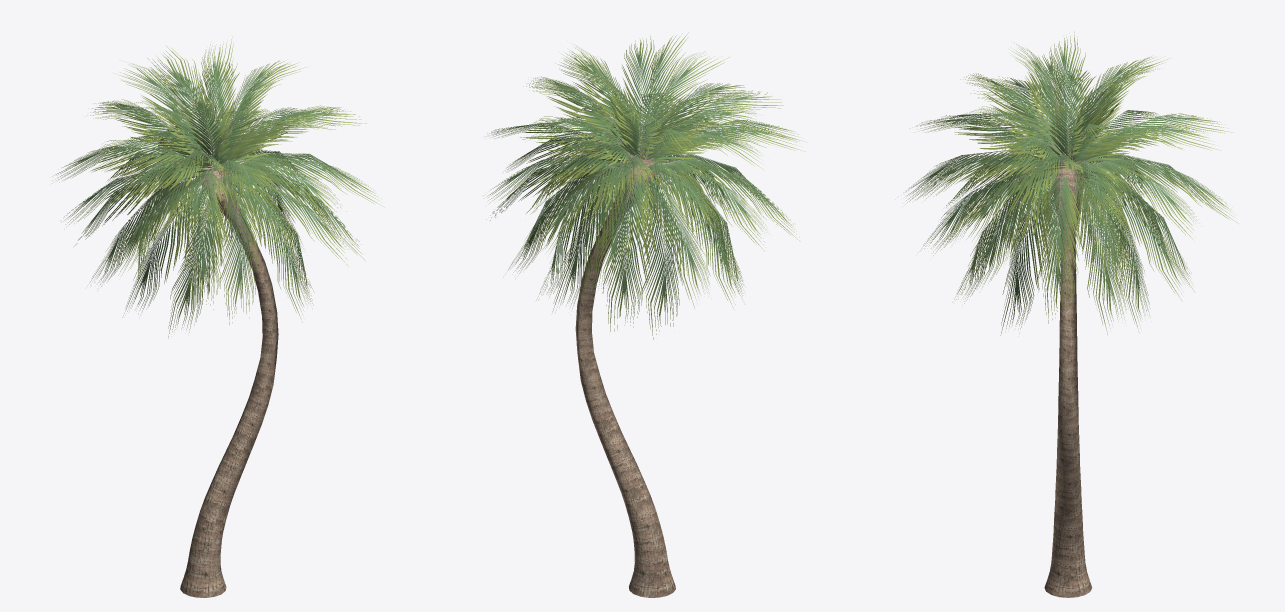
Rendered from tree4.glb.
3 renders of one model, left to right at view 1: azimuth 30°, elevation 25°; view 2: azimuth 150°, elevation 25°; view 3: azimuth 270°, elevation 25°, orthographic. The views are drawn at different scales.
Parts seen in each view (by area): view 1: palm_leaf_2_5_1, palm_trunk_6_0; view 2: palm_leaf_2_5_1, palm_trunk_6_0; view 3: palm_leaf_2_5_1, palm_trunk_6_0.
Boxes of the visible parts, <box> form: palm_leaf_2_5_1: <box>52,37,384,338</box>; palm_trunk_6_0: <box>180,160,278,597</box>; palm_leaf_2_5_1: <box>486,32,806,339</box>; palm_trunk_6_0: <box>575,152,675,597</box>; palm_leaf_2_5_1: <box>906,31,1238,335</box>; palm_trunk_6_0: <box>1044,154,1092,597</box>.
Bounding box in the file's own units: 6.53 × 9.85 × 6.62.
Materials: 2 (2 with a texture image).
